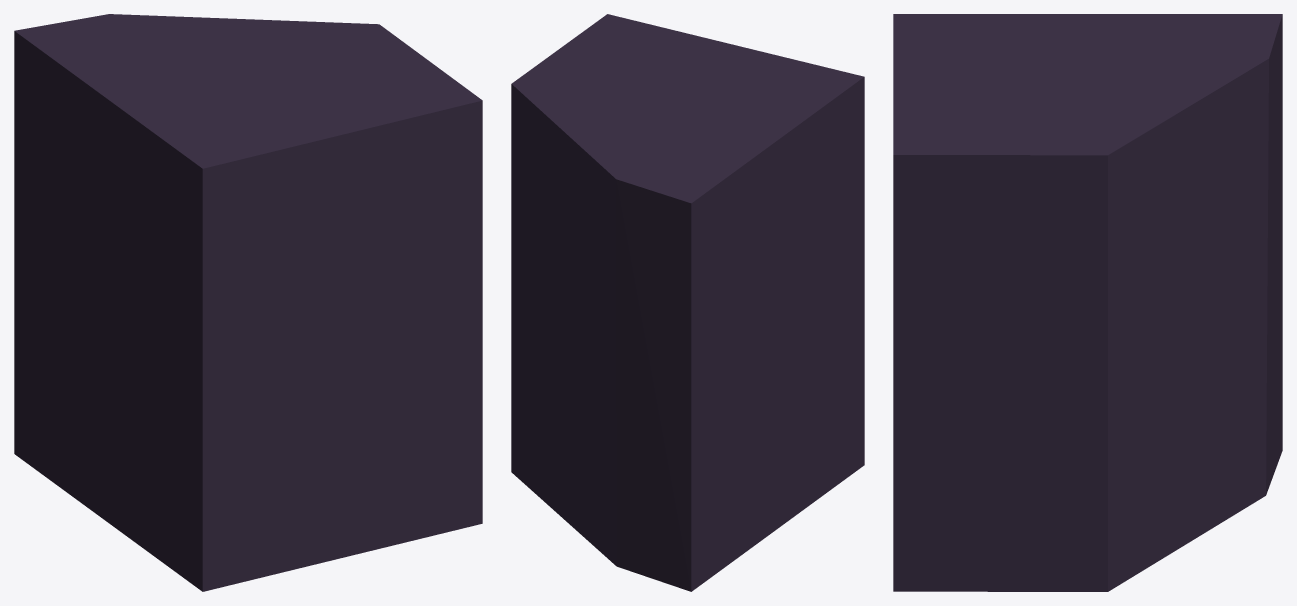
File: simple_example_hole_part_37.obj
The picture shows the model from 3 angles, left to right: view 1: azimuth 30°, elevation 25°; view 2: azimuth 150°, elevation 25°; view 3: azimuth 270°, elevation 25°; orthographic projection. The views are drawn at different scales.
Bounding box in the file's own units: 6.94 × 10 × 8.08.
